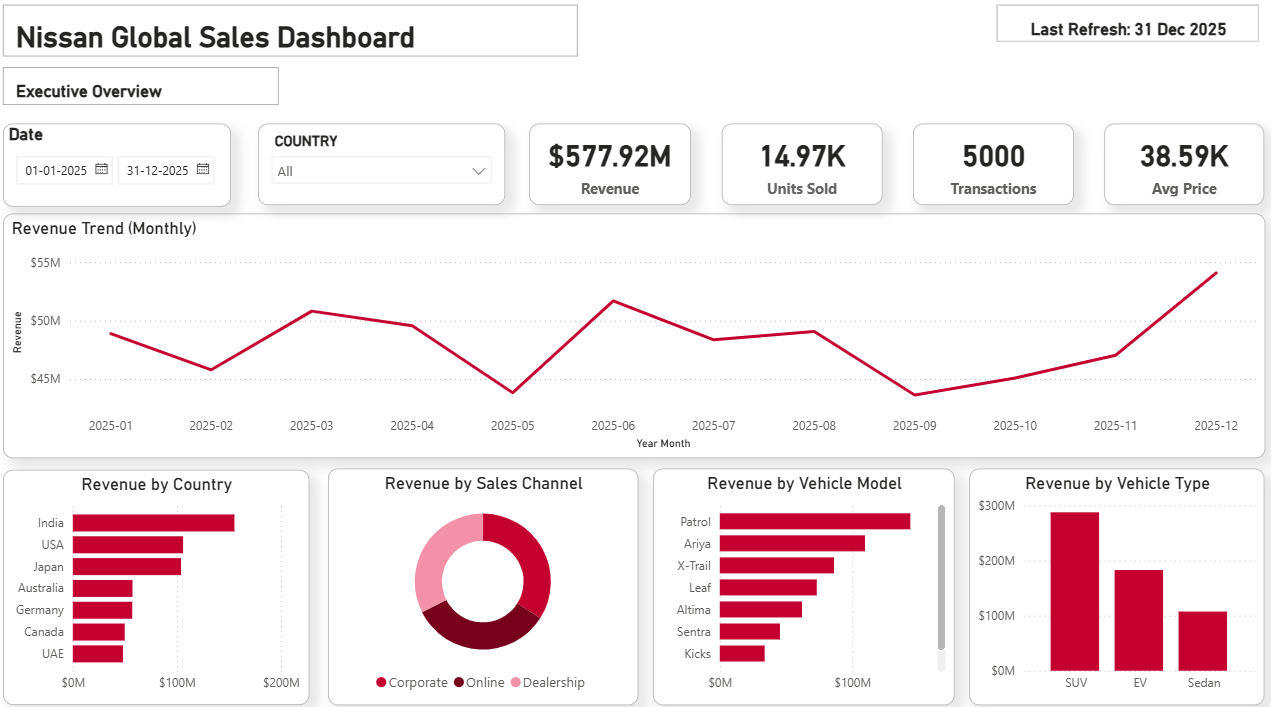

What the dashboard file says about the page in this screenshot:
{"tool":"powerbi","page":{"name":"Executive Overview","canvas":[1280,720],"ordinal":0},"visuals":[{"type":"card","title":"Total Revenue","fields":{"Values":["_Measures.Total Revenue"]},"box":[531.1,132.6,161.8,81.7],"z":0},{"type":"card","fields":{"Values":["_Measures.Total Transactions"]},"box":[914.9,132.6,161,81.7],"z":1000},{"type":"card","fields":{"Values":["_Measures.Average Selling Price"]},"box":[1106.5,132.6,160.3,81.7],"z":2000},{"type":"lineChart","title":"Revenue Trend (Monthly)","fields":{"Y":["_Measures.Total Revenue"],"Category":["DIM_DATE.Year Month"]},"box":[4.7,222.6,1262.6,244.7],"z":3000},{"type":"card","fields":{"Values":["_Measures.Total Units Sold"]},"box":[723.4,132.6,161,81.7],"z":4000},{"type":"clusteredBarChart","title":"Revenue by Country","fields":{"Y":["_Measures.Total Revenue"],"Category":["DIM_DEALERS.COUNTRY"]},"box":[5,478.9,306.1,235],"z":5000},{"type":"donutChart","title":"Revenue by Sales Channel","fields":{"Category":["FACT_SALES.SALES_CHANNEL"],"Y":["_Measures.Total Revenue"]},"box":[330,477.2,310,236.7],"z":6000},{"type":"clusteredBarChart","title":"Revenue by Vehicle Model","fields":{"Y":["_Measures.Total Revenue"],"Category":["DIM_VEHICLES.VEHICLE_MODEL"]},"box":[655.6,477.2,301.7,236.7],"z":7000},{"type":"clusteredColumnChart","title":"Revenue by Vehicle Type","fields":{"Category":["DIM_VEHICLES.VEHICLE_TYPE"],"Y":["_Measures.Total Revenue"]},"box":[971.8,477.1,295.3,236.5],"z":8000},{"type":"slicer","title":"Date","fields":{"Values":["DIM_DATE.Date"]},"box":[4.7,132.6,227.9,83.2],"z":9000},{"type":"slicer","fields":{"Values":["DIM_DEALERS.COUNTRY"]},"box":[260,132.9,247.1,81.4],"z":10000},{"type":"cardVisual","fields":{"Data":["_Measures.Last Refresh"]},"box":[994.3,8.6,272.9,47.1],"z":11000},{"type":"cardVisual","fields":{"Data":["_Measures.Dashboard Subtitle"]},"box":[0,71.3,286.9,48.6],"z":12000},{"type":"cardVisual","fields":{"Data":["_Measures.Dashboard Title"]},"box":[0,8.6,585.7,62.9],"z":13000}]}

Visuals, with their boxes in screenshot pixels (x1, y1, x2, y2), scaled from the page's 1280x720 canvas onto the 1271x707 screenshot:
"Total Revenue" card: 527, 130, 688, 210
card - _Measures.Total Transactions: 908, 130, 1068, 210
card - _Measures.Average Selling Price: 1099, 130, 1258, 210
"Revenue Trend (Monthly)" lineChart: 5, 219, 1258, 459
card - _Measures.Total Units Sold: 718, 130, 878, 210
"Revenue by Country" clusteredBarChart: 5, 470, 309, 701
"Revenue by Sales Channel" donutChart: 328, 469, 636, 701
"Revenue by Vehicle Model" clusteredBarChart: 651, 469, 951, 701
"Revenue by Vehicle Type" clusteredColumnChart: 965, 468, 1258, 701
"Date" slicer: 5, 130, 231, 212
slicer - DIM_DEALERS.COUNTRY: 258, 131, 504, 210
cardVisual - _Measures.Last Refresh: 987, 8, 1258, 55
cardVisual - _Measures.Dashboard Subtitle: 0, 70, 285, 118
cardVisual - _Measures.Dashboard Title: 0, 8, 582, 70
